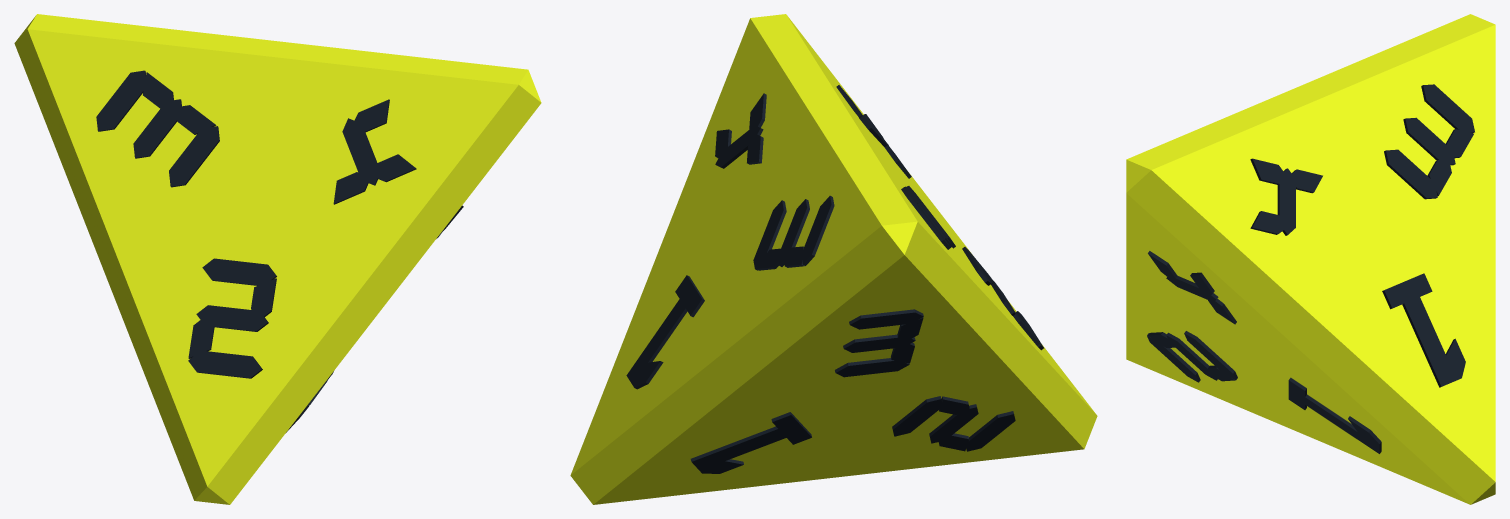
3 renders of one model, left to right at view 1: azimuth 30°, elevation 25°; view 2: azimuth 150°, elevation 25°; view 3: azimuth 270°, elevation 25°, orthographic. The views are drawn at different scales.
Visible parts, largest first — view 1: CUTLINE d4 canonical sculpture; view 2: CUTLINE d4 canonical sculpture; view 3: CUTLINE d4 canonical sculpture.
Part boxes in pixels (x1,y1,x2,y2): CUTLINE d4 canonical sculpture: [14, 14, 541, 504]; CUTLINE d4 canonical sculpture: [570, 14, 1097, 504]; CUTLINE d4 canonical sculpture: [1126, 14, 1495, 504].
Bounding box in the file's own units: 1.02 × 1.02 × 1.02.
